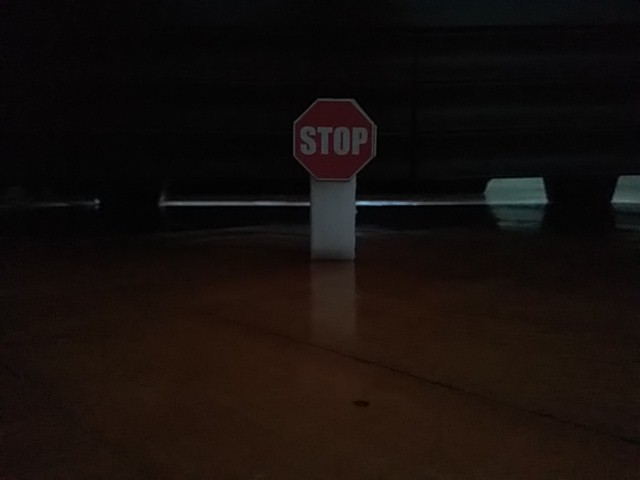Stop Sign: (294, 99, 377, 184)
